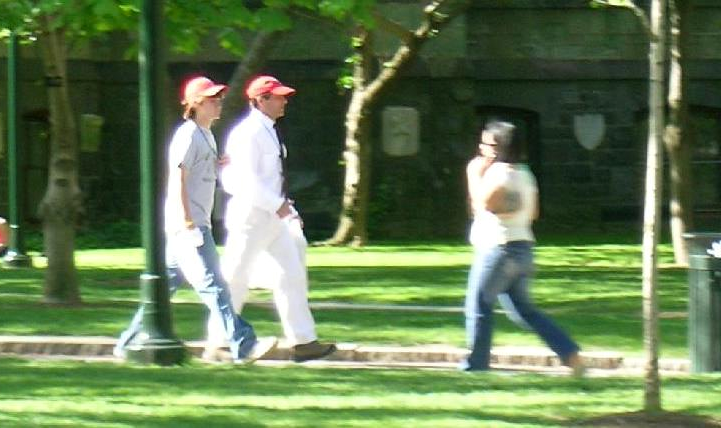pedestrian: (114, 76, 277, 369), (205, 75, 335, 365), (457, 120, 580, 379)
